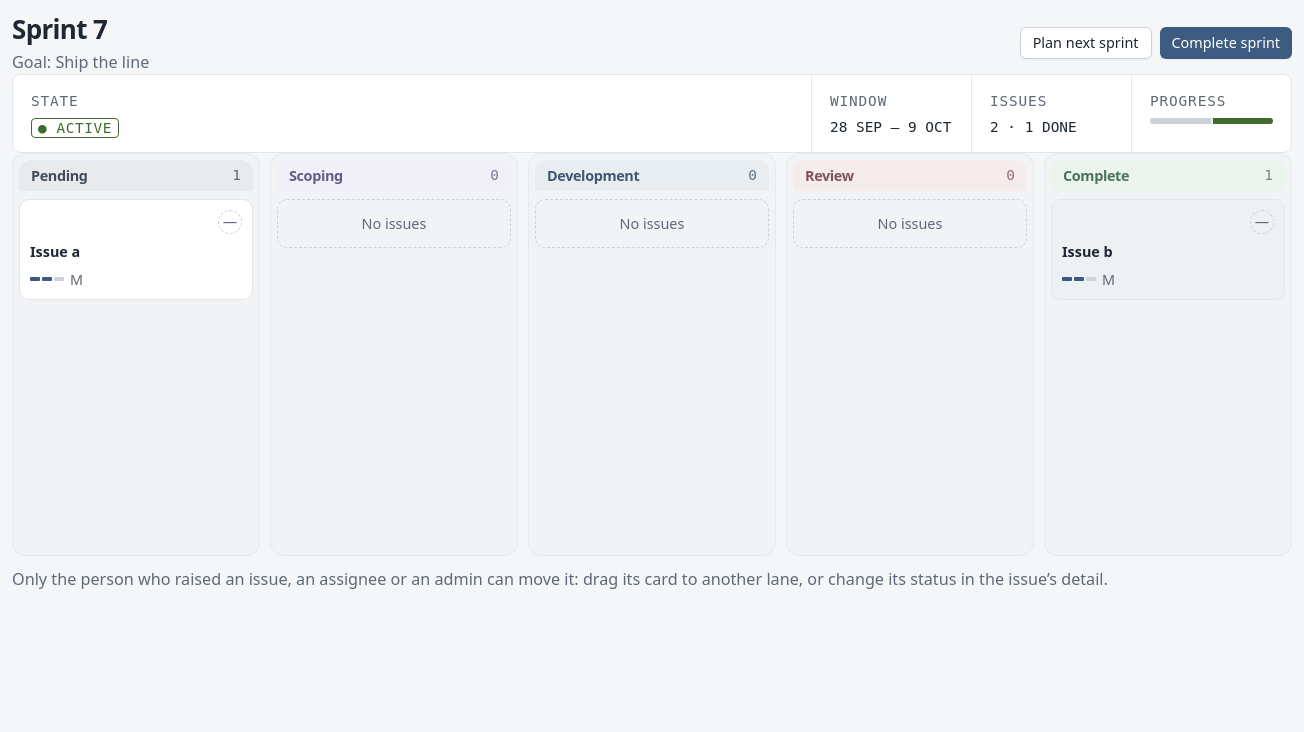
Test: Add New Sprint › accepts a one-day sprint, trims the name, closes and says so
Step 1. Click the button "Plan next sprint" → (1086, 43), box [1020, 27, 1152, 59]
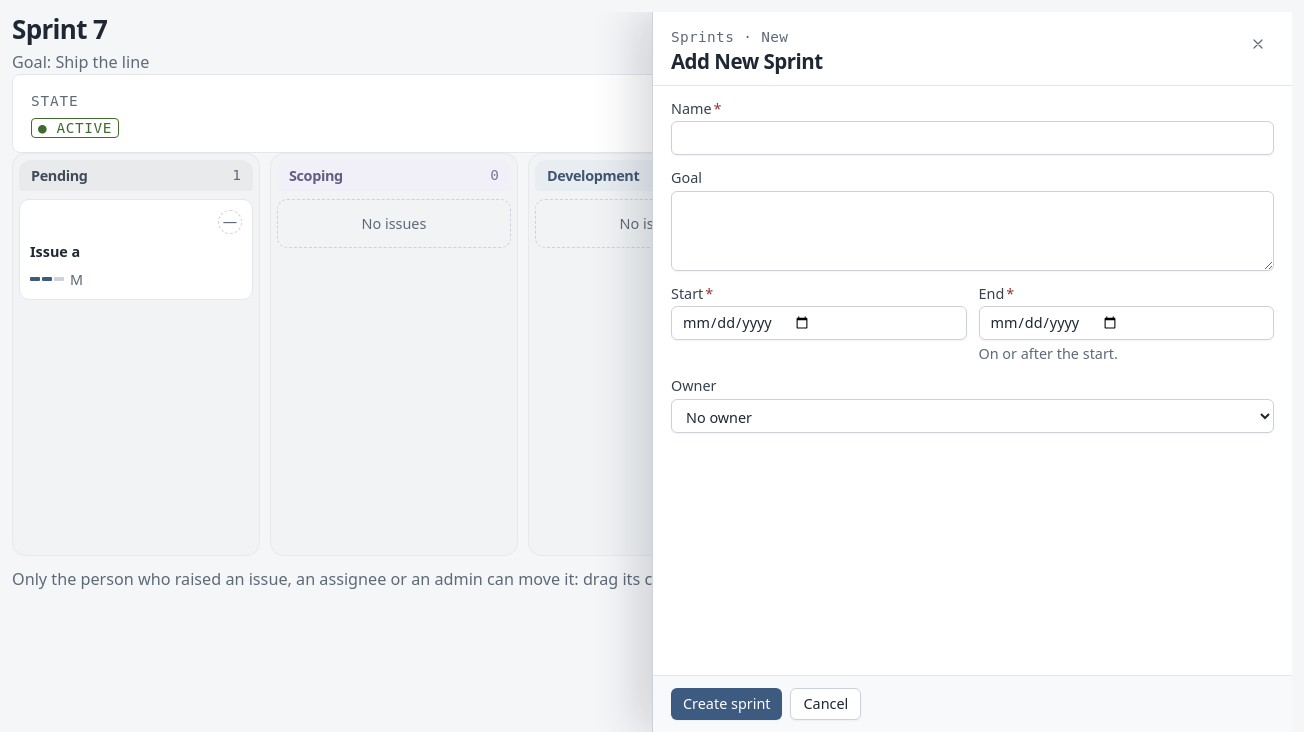
Step 2. Type "  Sprint 8 " into the field labelled "Name*" → (972, 138), box [671, 121, 1274, 155]
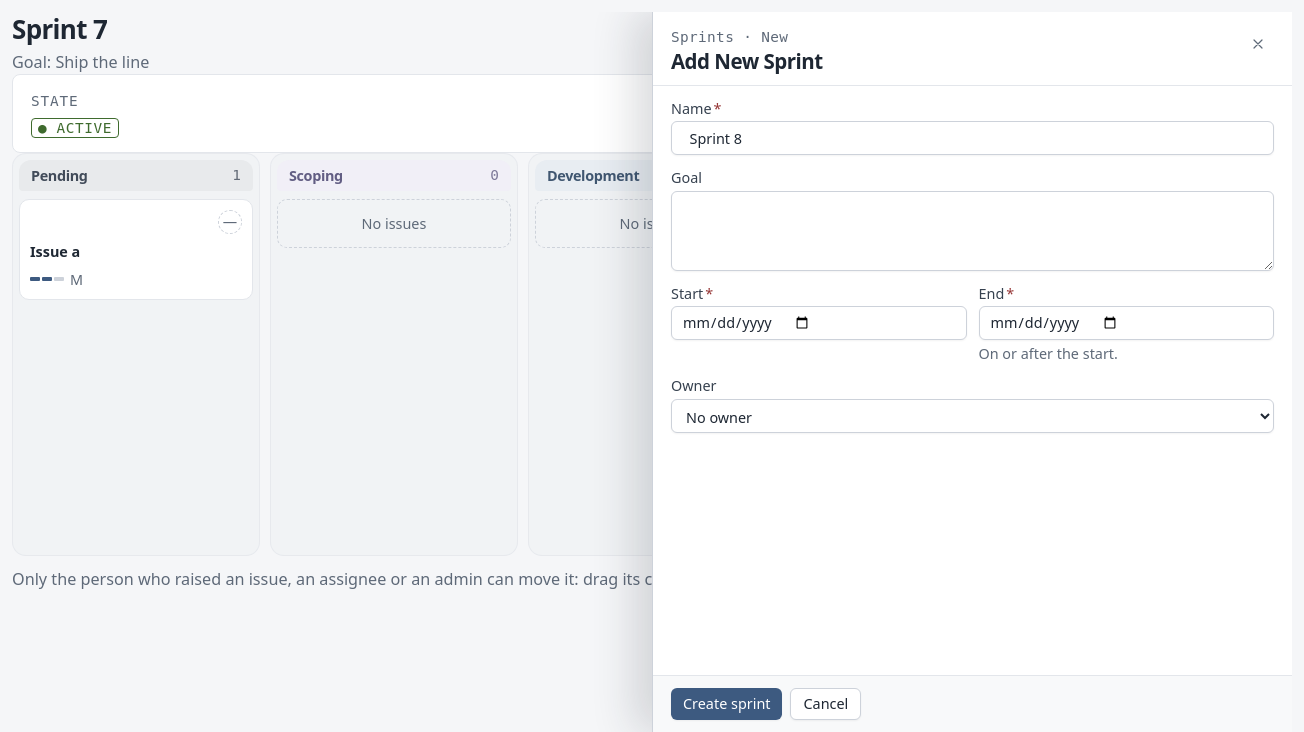
Step 3. Type "2026-10-12" into the date field labelled "Start*" → (819, 323), box [671, 306, 966, 340]
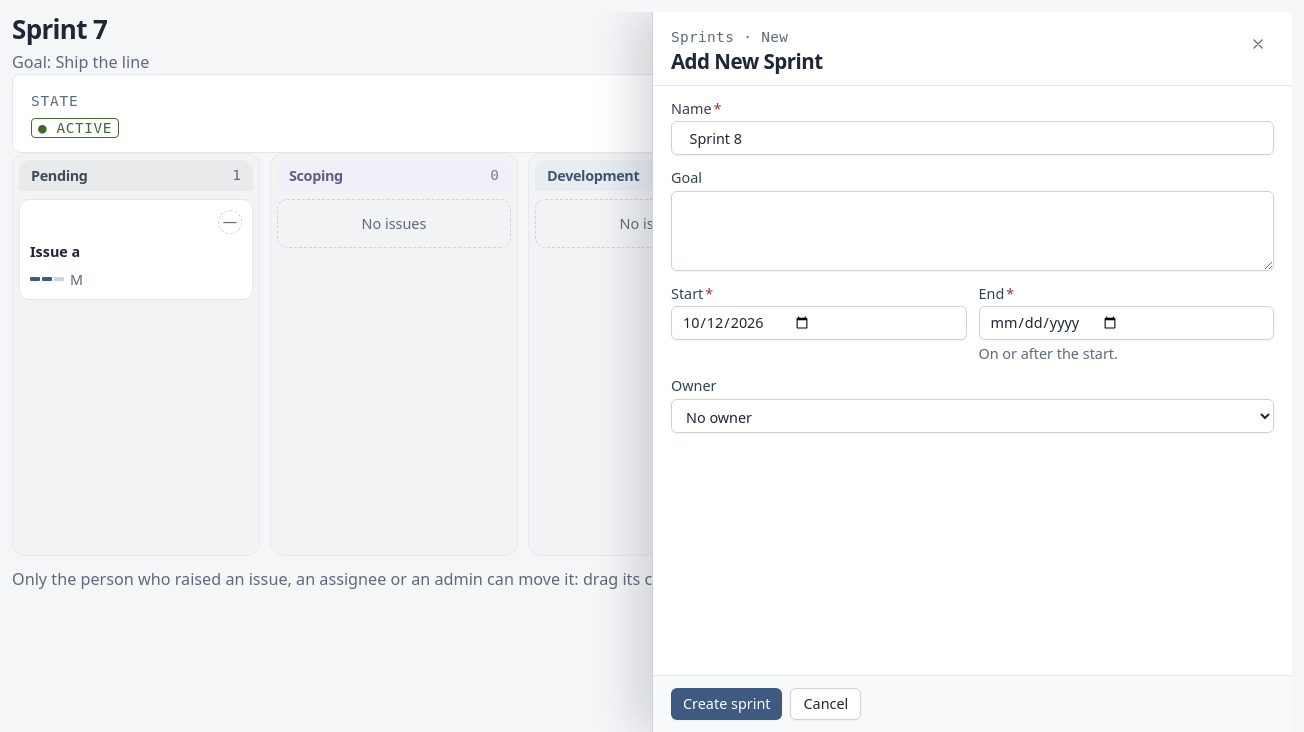
Step 4. Type "2026-10-12" into the date field labelled "End*" → (1126, 323), box [978, 306, 1274, 340]
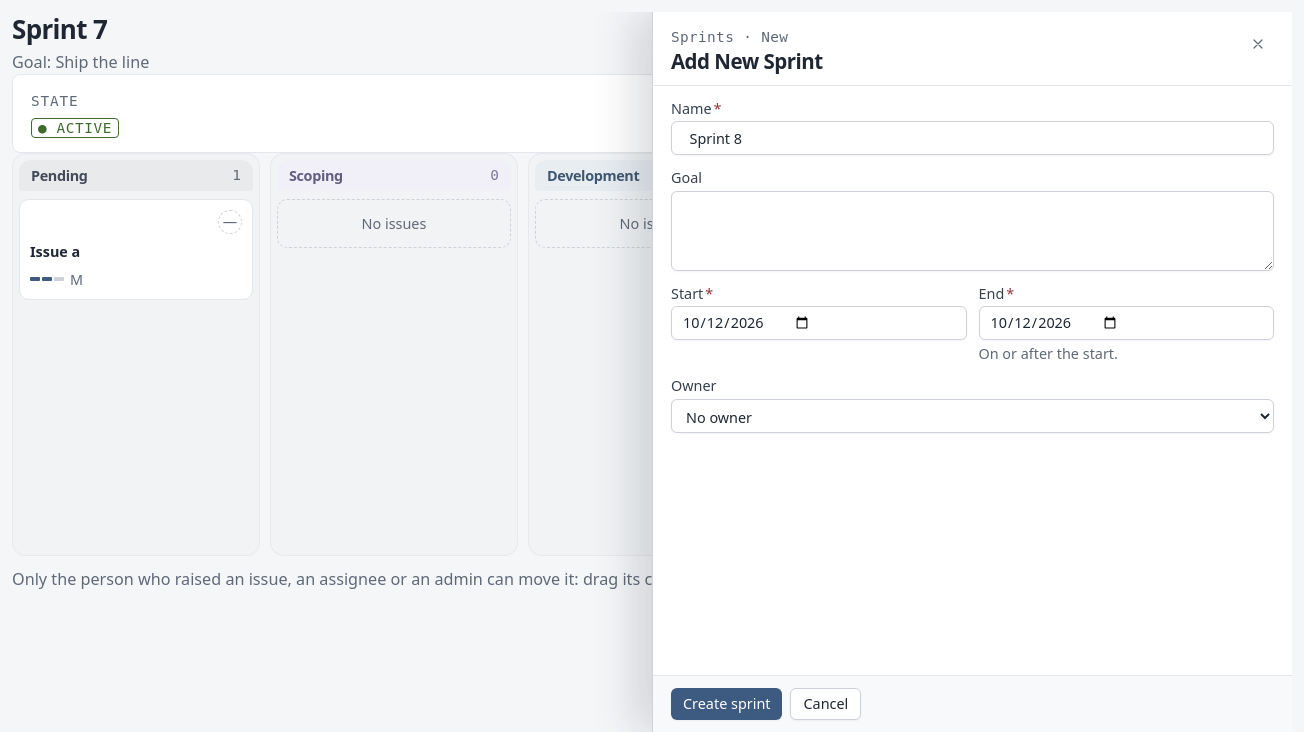
Step 5. Click the button "Create sprint" → (727, 704), box [671, 688, 782, 720]
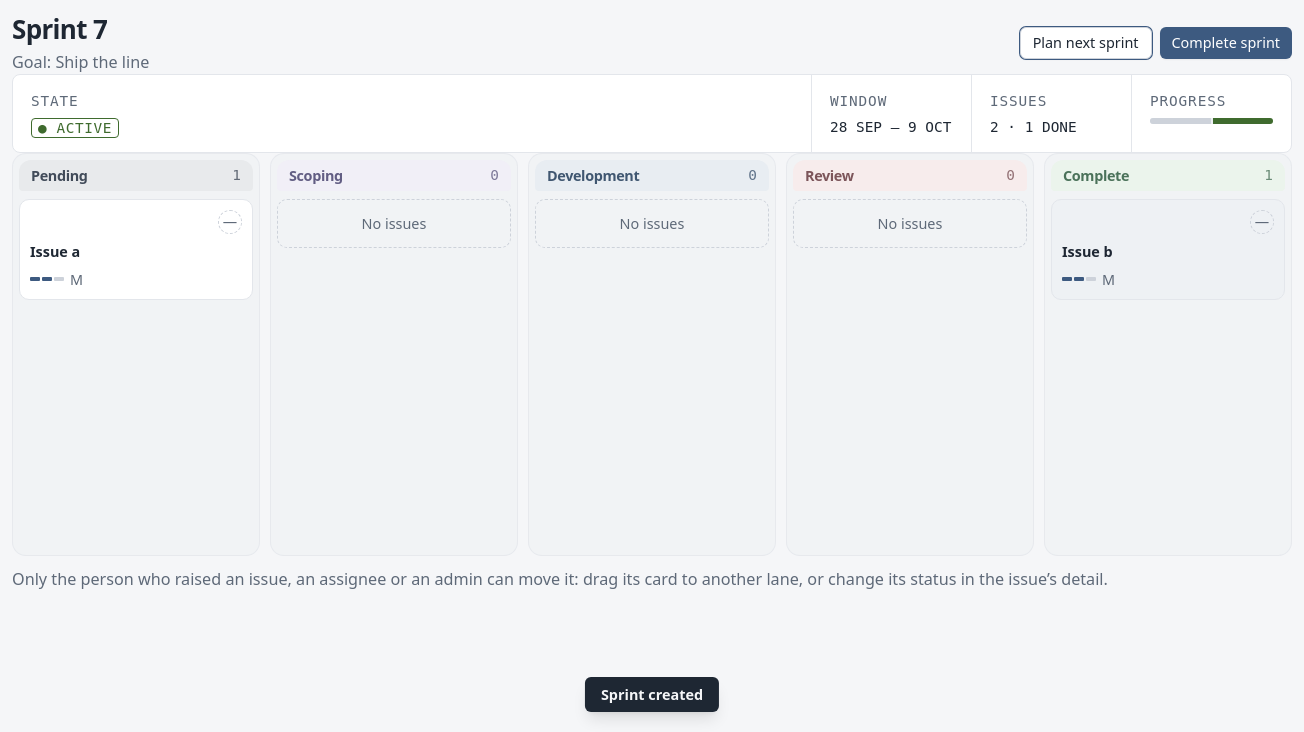
Now the text "Sprint created" is shown, box [585, 677, 719, 712]
Now the button "Create sprint" is gone
